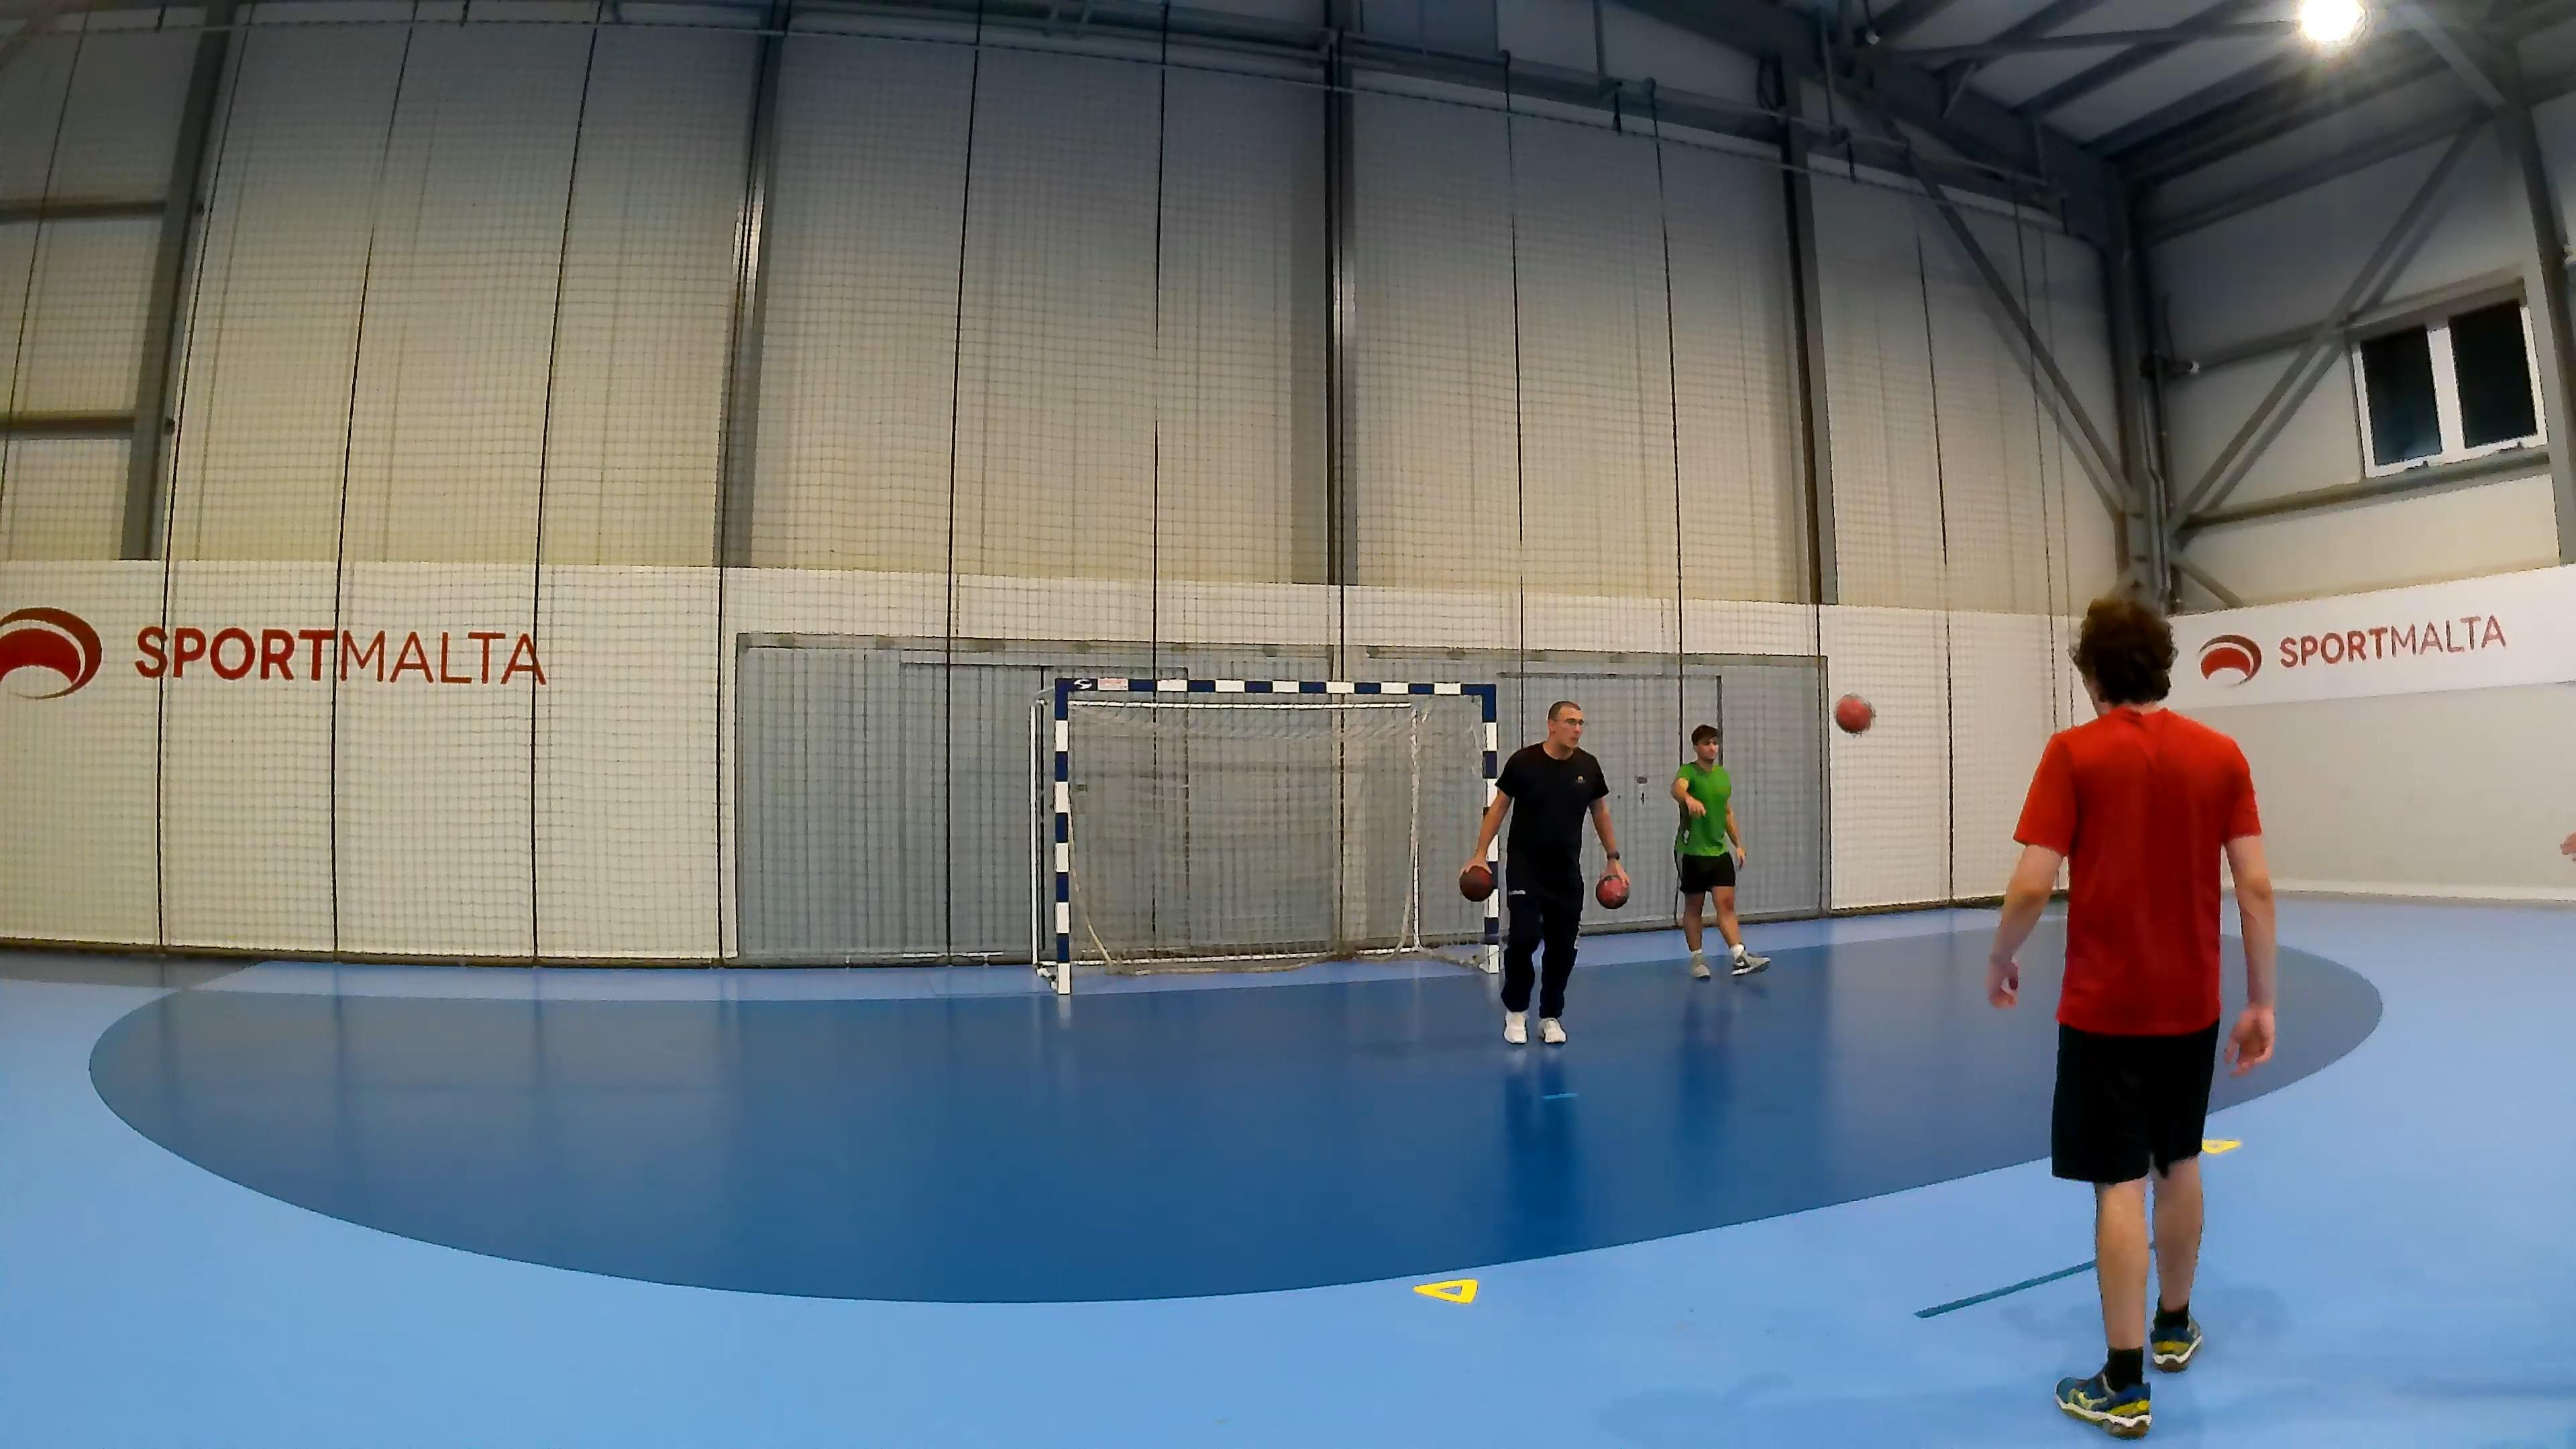handball: (1833, 694, 1874, 734), (1458, 863, 1493, 901), (1594, 872, 1629, 908)
